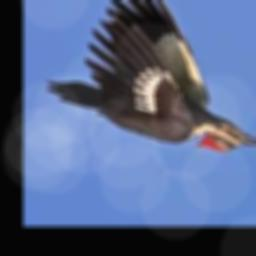Woodpecker: (46, 0, 256, 153)
